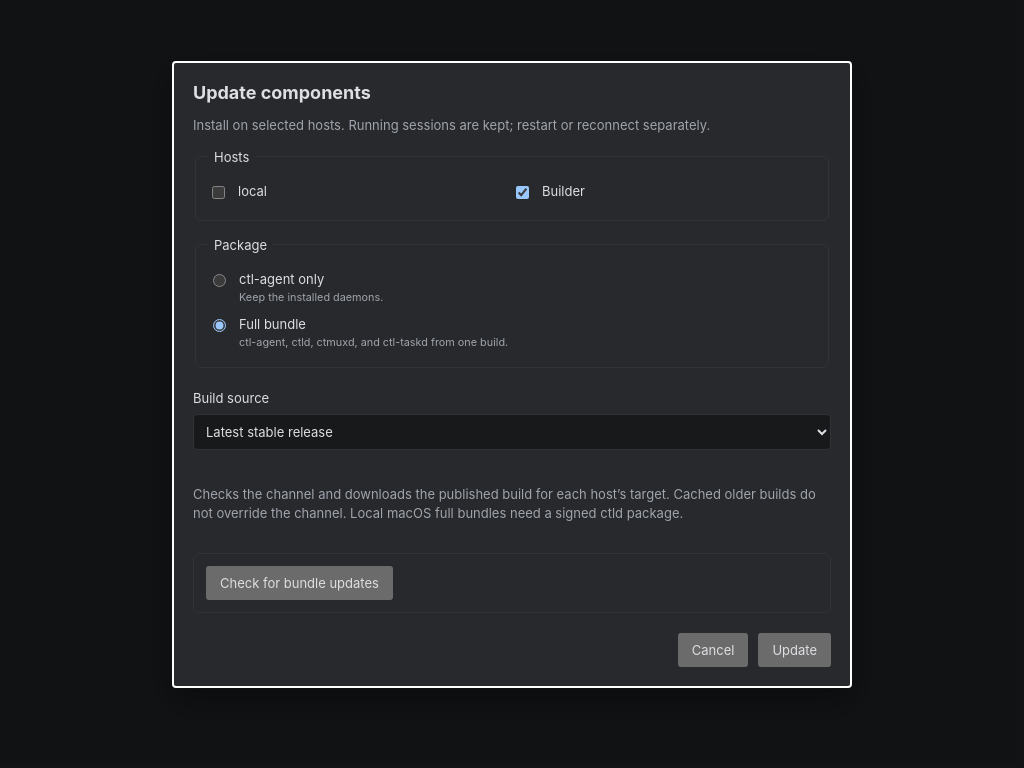
installs the explicit published channel without using the offline selection
expect the dropdown labelled "Build source" shows "Latest stable release": met, box [193,414,831,450]
Click the button "Update". click: click(795, 650)
box: [758,633,831,667]
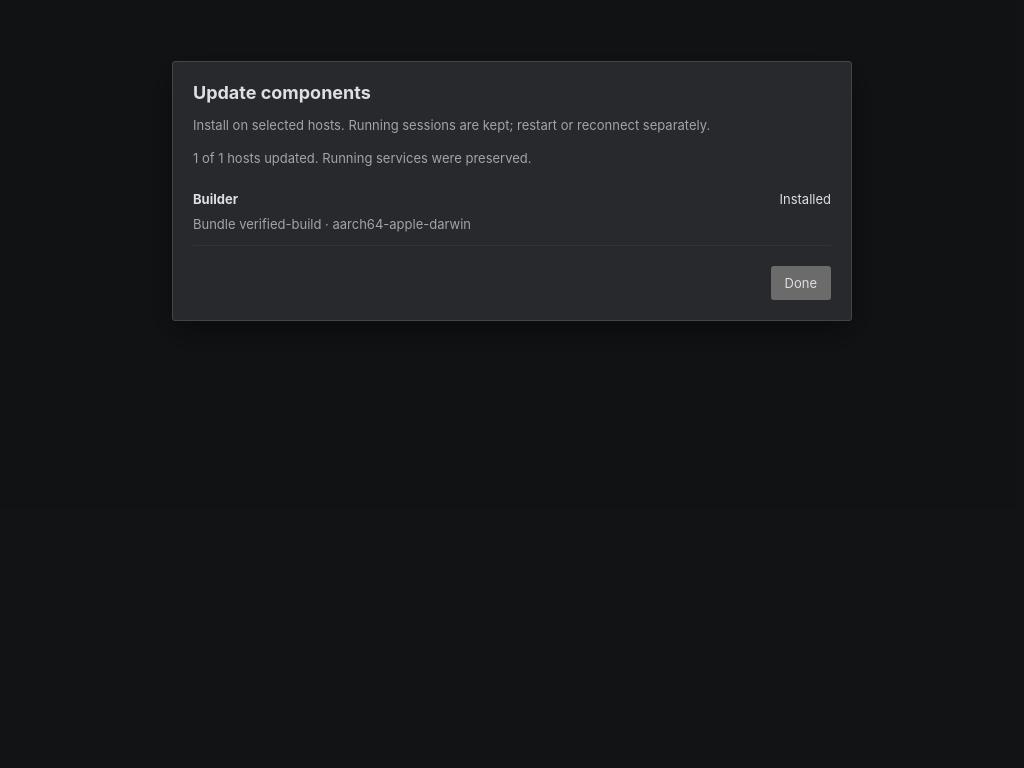
expect the text "1 of 1 hosts updated. Running services were preserved." is shown: met, box [193,150,532,166]
expect the text "Bundle verified-build · aarch64-apple-darwin" is shown: met, box [193,216,471,232]
